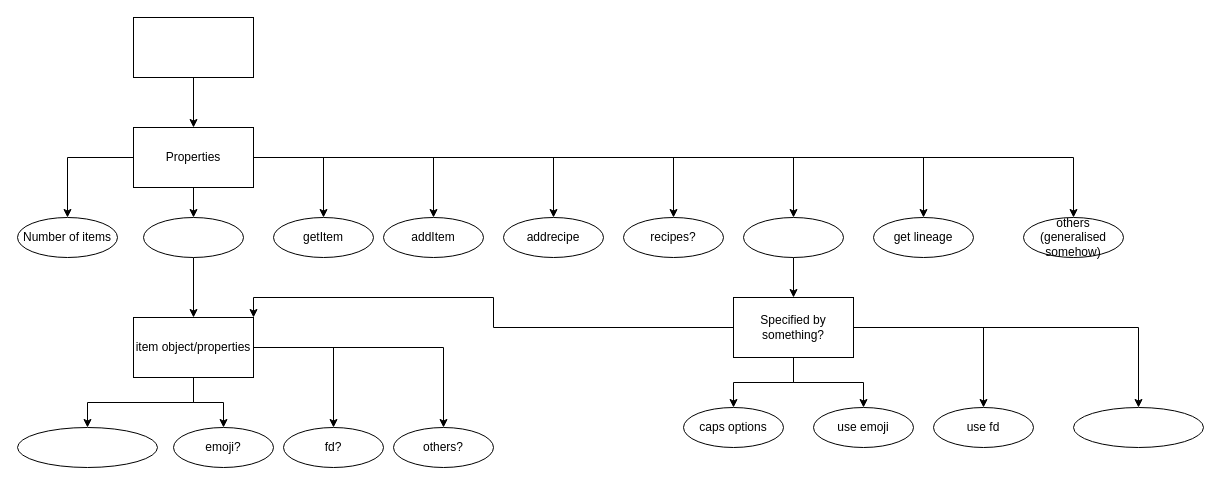
This 1221x485 diagram has some shape labels left out. Here are the shapes that lost their labels. From the top down, the centre of each, then its label:
point 193,47: Indexer
point 193,237: Items (set or list or dictionary idk)
point 793,237: settings
point 87,447: text (or generalised default property)
point 1138,427: others (other element properties?
